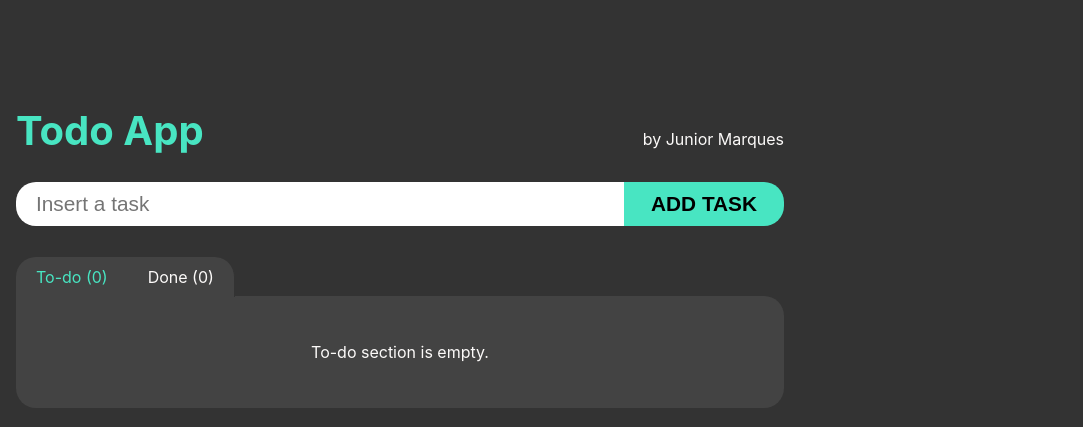
Test App › Should insert task correctly
Check: the tab "To-do (0)" is shown, box [16,257,128,297]
Check: the tab "Done (0)" is shown, box [128,257,235,297]
Type "Text test 1" into the field with placeholder "Insert a task" at point(320, 204), box [16,182,624,226]
Then press Enter
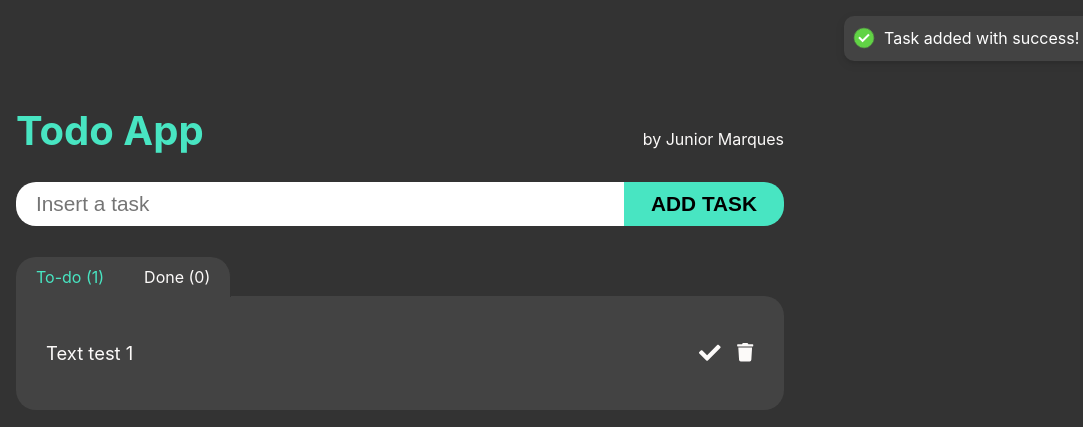
Check: the list item "Text test 1" is shown, box [46,342,754,364]
Check: the tab "To-do (1)" is shown, box [16,257,124,297]
